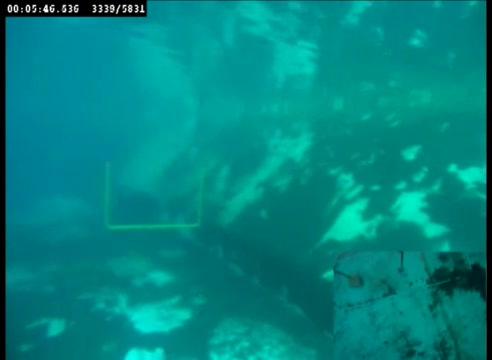channel: (101, 165, 210, 233)
